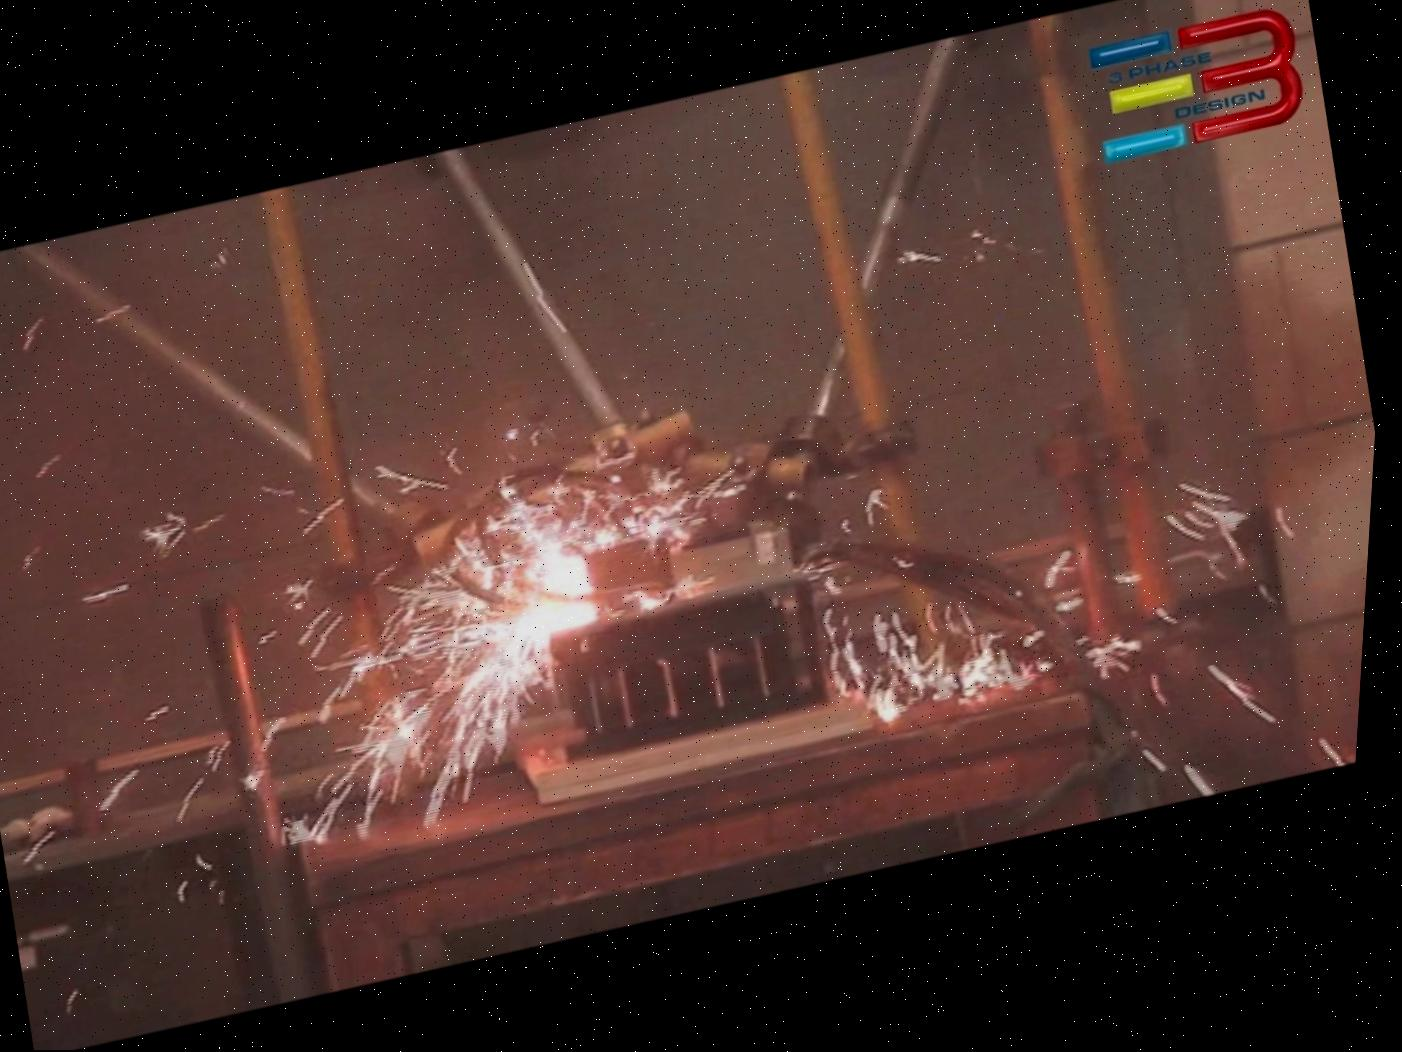fire: (150, 350, 1262, 947)
